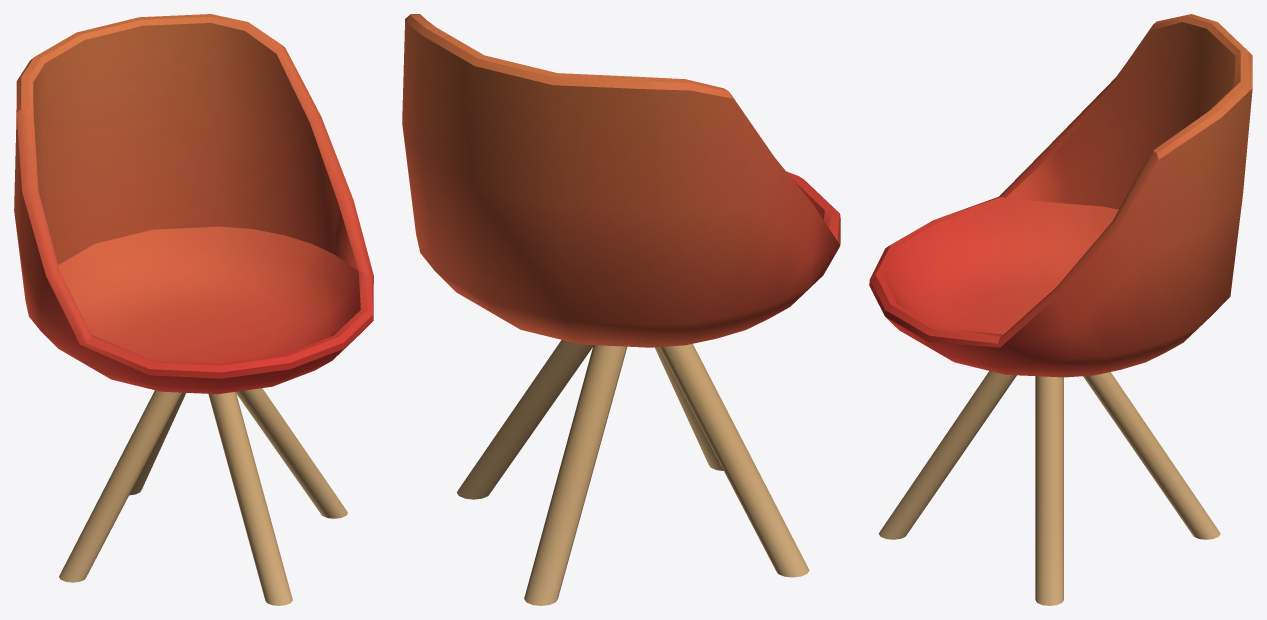
File: Chair3.fbx
3 renders of one model, left to right at view 1: azimuth 30°, elevation 25°; view 2: azimuth 150°, elevation 25°; view 3: azimuth 270°, elevation 25°, orthographic. The views are drawn at different scales.
Parts seen in each view (by area): view 1: Sphere003; view 2: Sphere003; view 3: Sphere003.
Part boxes in pixels (bbox=[...]): Sphere003: bbox=[14, 14, 373, 605]; Sphere003: bbox=[402, 14, 840, 605]; Sphere003: bbox=[869, 14, 1252, 605].
Bounding box in the file's own units: 54.86 × 76.02 × 56.52.
